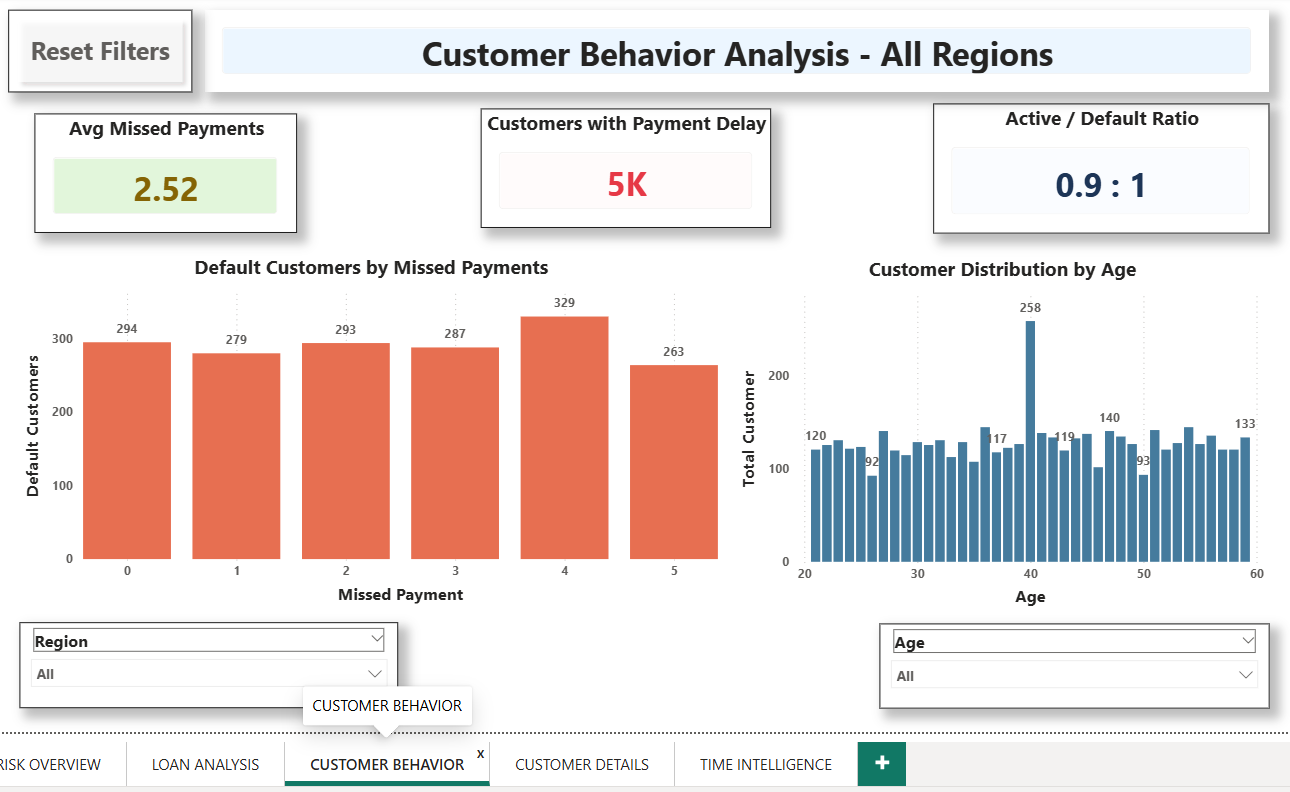

Layout of this report page (visuals, bound fields, positions):
{"tool":"powerbi","page":{"name":"CUSTOMER BEHAVIOR","canvas":[1280,720],"ordinal":2},"visuals":[{"type":"cardVisual","title":"Avg Missed Payments","fields":{"Data":["Measure.Avg Missed Payments"]},"box":[36.2,115.4,256.8,116.9],"z":0,"group":"g1"},{"type":"clusteredColumnChart","title":"Default Customers by Missed Payments","fields":{"Category":["customer_credit_data.missed_payments"],"Y":["Measure.Default Customers"]},"box":[21.6,252.5,688.2,347.7],"z":0},{"type":"cardVisual","title":"Customers with Payment Delay","fields":{"Data":["Measure.High Delay Customers"]},"box":[473.4,109.6,284.2,116.9],"z":1000,"group":"g1"},{"type":"clusteredColumnChart","title":"Customer Distribution by Age","fields":{"Y":["Measure.Total Customers"],"Category":["customer_credit_data.age"]},"box":[722.8,253.9,522.3,347.7],"z":1000},{"type":"cardVisual","fields":{"Data":["Measure.Customer Page Title"]},"box":[203.4,13,1041.7,80.8],"z":2000},{"type":"cardVisual","title":"Active / Default Ratio","fields":{"Data":["Measure.Active to Default Ratio"]},"box":[914.8,105.3,328.9,127],"z":2000,"group":"g1"},{"type":"slicer","fields":{"Values":["customer_credit_data.region"]},"box":[21.6,613.2,370.8,83.7],"z":3000},{"type":"actionButton","box":[11.5,13,180.3,80.8],"z":4000},{"type":"slicer","fields":{"Values":["customer_credit_data.age"]},"box":[863.3,613.9,381.5,83.2],"z":5000},{"type":"group","id":"g1","title":"Group 1","box":[36.2,105.3,1207.6,127],"z":6000}]}

Visuals, with their boxes on the page's 1280x720 design canvas (x1, y1, x2, y2). These are canvas units, not pixel positions in the 1290x792 screenshot, which may show the page scaled, cropped or inside an application window:
"Avg Missed Payments" cardVisual: 36/115/293/232
"Default Customers by Missed Payments" clusteredColumnChart: 22/252/710/600
"Customers with Payment Delay" cardVisual: 473/110/758/226
"Customer Distribution by Age" clusteredColumnChart: 723/254/1245/602
cardVisual - Measure.Customer Page Title: 203/13/1245/94
"Active / Default Ratio" cardVisual: 915/105/1244/232
slicer - customer_credit_data.region: 22/613/392/697
actionButton: 12/13/192/94
slicer - customer_credit_data.age: 863/614/1245/697
"Group 1" group: 36/105/1244/232
